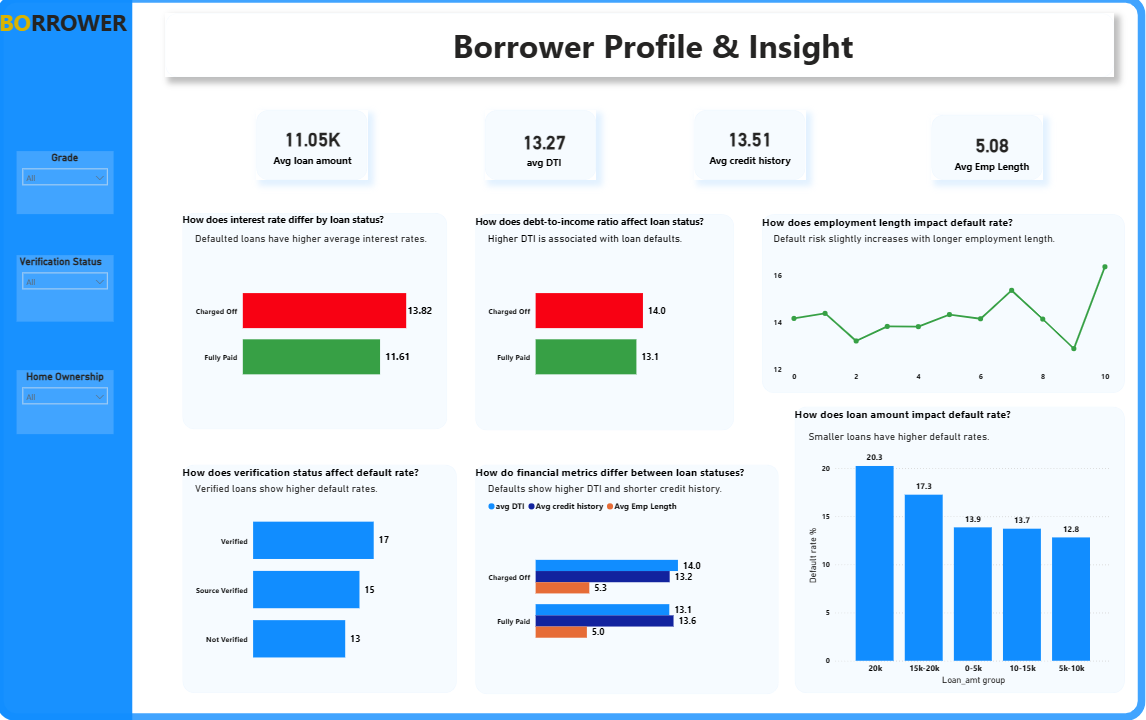

This screenshot's page, from the dashboard's own definition file:
{"tool":"powerbi","page":{"name":" Page 2","canvas":[1900,1200],"ordinal":1},"visuals":[{"type":"shape","box":[0,0,1900,1200],"z":2000},{"type":"shape","box":[280,30,1568,106],"z":3000},{"type":"shape","box":[0,0,226,1200],"z":4000},{"type":"shape","box":[1320,680,546,474],"z":4250},{"type":"shape","box":[1154,190,226,116],"z":4500},{"type":"shape","box":[792,362,428,358],"z":4501},{"type":"shape","box":[308,360,438,358],"z":4502},{"type":"shape","box":[1266,362,600,296],"z":4503},{"type":"shape","box":[308,776,454,378],"z":4504},{"type":"shape","box":[792,776,502,380],"z":4505},{"type":"shape","box":[1546,198,226,108],"z":4507},{"type":"shape","box":[430,190,184,116],"z":4508},{"type":"shape","box":[808,190,184,116],"z":4509},{"type":"lineChart","title":"Borrowers with 10+ years employment may take larger loans increasing default risk.","fields":{"Y":["measures table.Default rate %"],"Category":["Loan project.emp_length (year)"]},"box":[1280,392,568,258],"z":4510},{"type":"clusteredBarChart","title":"Verified loans show higher default rates. They may take larger loans increasing risk.","fields":{"Category":["Loan project.verification_status"],"Y":["measures table.Default rate %"]},"box":[324,806,422,330],"z":4511},{"type":"clusteredBarChart","title":"Defaults show higher DTI and shorter credit history.","fields":{"Category":["Loan project.loan_status"],"Y":["measures table.avg DTI","measures table.Avg credit history","measures table.Avg Emp Length"]},"box":[808,806,458,330],"z":4512},{"type":"clusteredColumnChart","title":"Larger loans have higher default rates.","fields":{"Category":["Loan project.Loan_amt group"],"Y":["measures table.Default rate %"]},"box":[1338,720,510,426],"z":4513},{"type":"clusteredBarChart","title":"Defaulted loans have higher average interest rates.","fields":{"Category":["Loan project.loan_status"],"Y":["measures table.avg int rate"]},"box":[324,392,402,312],"z":4514},{"type":"clusteredBarChart","title":"Higher DTI is associated with loan defaults.","fields":{"Category":["Loan project.loan_status"],"Y":["Avg(Loan project.dti)"]},"box":[808,392,390,312],"z":4515},{"type":"card","fields":{"Values":["measures table.Avg loan amount"]},"box":[438,200,170,96],"z":4516},{"type":"card","fields":{"Values":["measures table.Avg credit history"]},"box":[1162,202,218,92],"z":4517},{"type":"card","fields":{"Values":["measures table.Avg Emp Length"]},"box":[1562,210,210,92],"z":4518},{"type":"card","fields":{"Values":["measures table.avg DTI"]},"box":[820,202,158,100],"z":4519},{"type":"textbox","box":[662,42,848,86],"z":4520},{"type":"slicer","title":"Grade","fields":{"Values":["Loan project.grade"]},"box":[34,258,160,104],"z":4521},{"type":"slicer","title":"Verification Status","fields":{"Values":["Loan project.verification_status"]},"box":[34,430,160,110],"z":4522},{"type":"slicer","title":"Home Ownership","fields":{"Values":["Loan project.home_ownership"]},"box":[34,620,160,106],"z":4523},{"type":"textbox","box":[0,14,224,72],"z":4524},{"type":"image","box":[62,1022,92,88],"z":4525},{"type":"image","box":[68,814,78,94],"z":4526}]}

Visuals, with their boxes in screenshot pixels (x1, y1, x2, y2), scaled from the page's 1900x1200 canvas onto the 1146x720 screenshot:
shape: [0, 0, 1145, 719]
shape: [169, 18, 1115, 82]
shape: [0, 0, 136, 719]
shape: [796, 408, 1125, 692]
shape: [696, 114, 832, 184]
shape: [478, 217, 736, 432]
shape: [186, 216, 450, 431]
shape: [764, 217, 1125, 395]
shape: [186, 466, 460, 692]
shape: [478, 466, 780, 694]
shape: [932, 119, 1069, 184]
shape: [259, 114, 370, 184]
shape: [487, 114, 598, 184]
"Borrowers with 10+ years employment may take larger loans increasing default risk." lineChart: [772, 235, 1115, 390]
"Verified loans show higher default rates. They may take larger loans increasing risk." clusteredBarChart: [195, 484, 450, 682]
"Defaults show higher DTI and shorter credit history." clusteredBarChart: [487, 484, 764, 682]
"Larger loans have higher default rates." clusteredColumnChart: [807, 432, 1115, 688]
"Defaulted loans have higher average interest rates." clusteredBarChart: [195, 235, 438, 422]
"Higher DTI is associated with loan defaults." clusteredBarChart: [487, 235, 723, 422]
card - measures table.Avg loan amount: [264, 120, 367, 178]
card - measures table.Avg credit history: [701, 121, 832, 176]
card - measures table.Avg Emp Length: [942, 126, 1069, 181]
card - measures table.avg DTI: [495, 121, 590, 181]
textbox: [399, 25, 911, 77]
"Grade" slicer: [21, 155, 117, 217]
"Verification Status" slicer: [21, 258, 117, 324]
"Home Ownership" slicer: [21, 372, 117, 436]
textbox: [0, 8, 135, 52]
image: [37, 613, 93, 666]
image: [41, 488, 88, 545]
